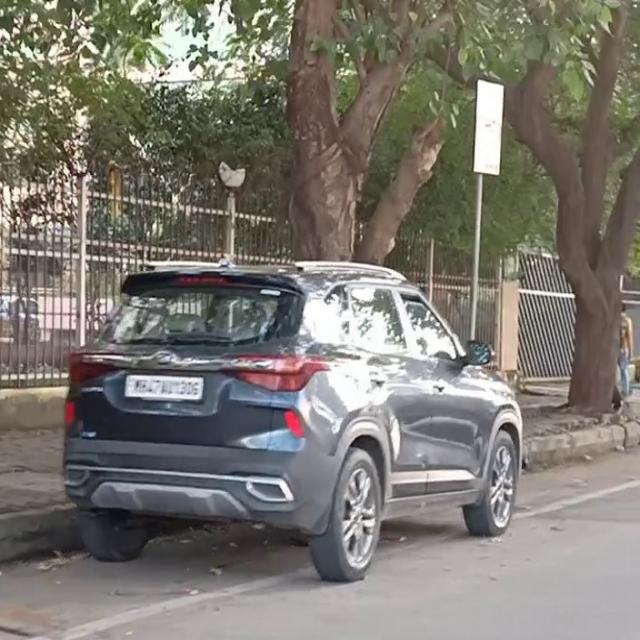Plate: (125, 375, 206, 404)
